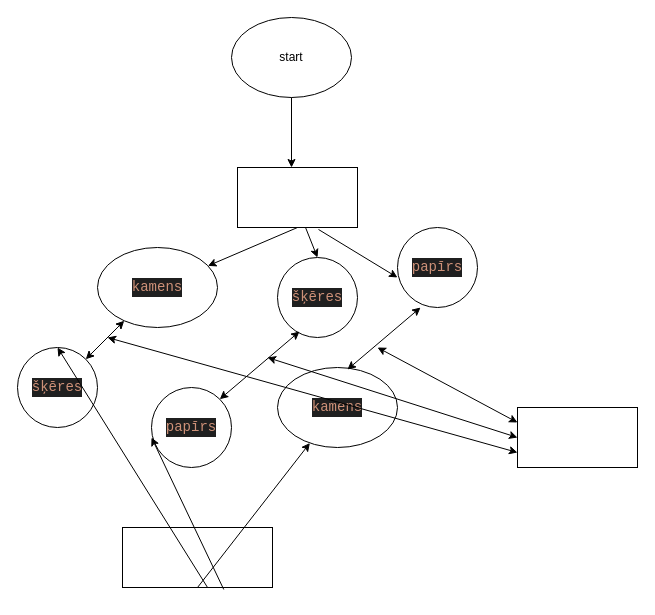
This 655x615 diagram has some shape labels left out. The centre of each missing label's shape, as x and y in pixels:
"computera izvēle" belongs at pixel 197 557.
"Izvēlieties" belongs at pixel 297 197.
"Jūs uzvarējāt!" belongs at pixel 577 437.
